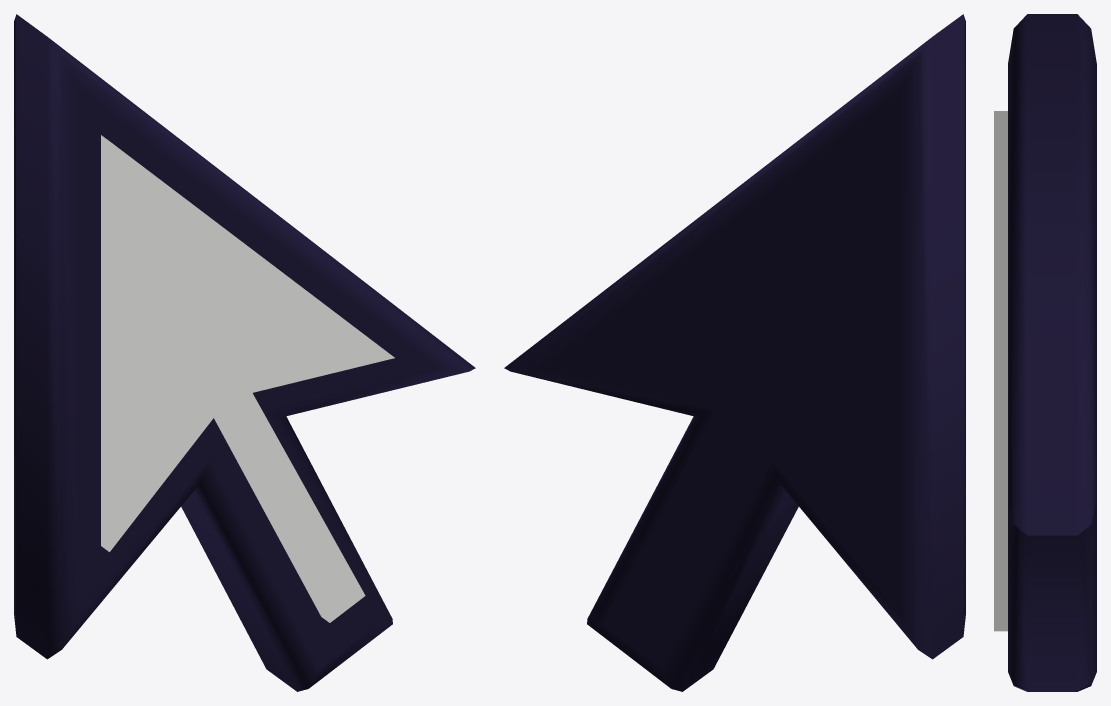
File: ui_cursor.glb
The picture shows the model from 3 angles, left to right: view 1: azimuth 30°, elevation 25°; view 2: azimuth 150°, elevation 25°; view 3: azimuth 270°, elevation 25°; orthographic projection. The views are drawn at different scales.
Visible parts, largest first — view 1: ui_cursor; view 2: ui_cursor; view 3: ui_cursor.
Boxes of the visible parts, <box> form: ui_cursor: <box>14,14,475,691</box>; ui_cursor: <box>504,14,965,691</box>; ui_cursor: <box>994,14,1096,691</box>.
Bounding box in the file's own units: 0.72 × 1.15 × 0.185.
